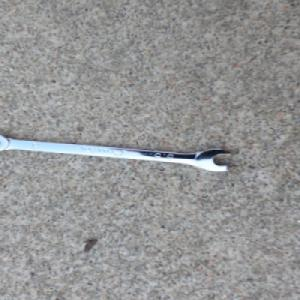Wrench: (0, 133, 238, 173)
